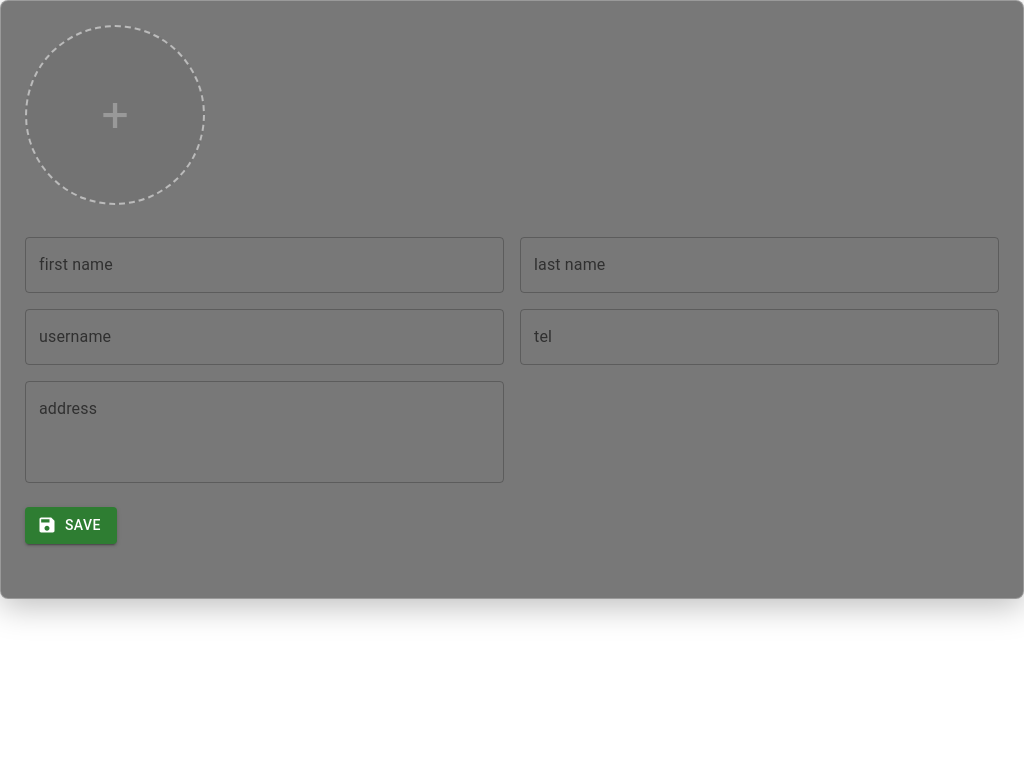
Test: profile page › shows validation errors when saving empty names
Check: the field labelled "first name" is shown, box [25, 237, 504, 293]
Click the button "save" at (71, 525), box [25, 507, 117, 544]
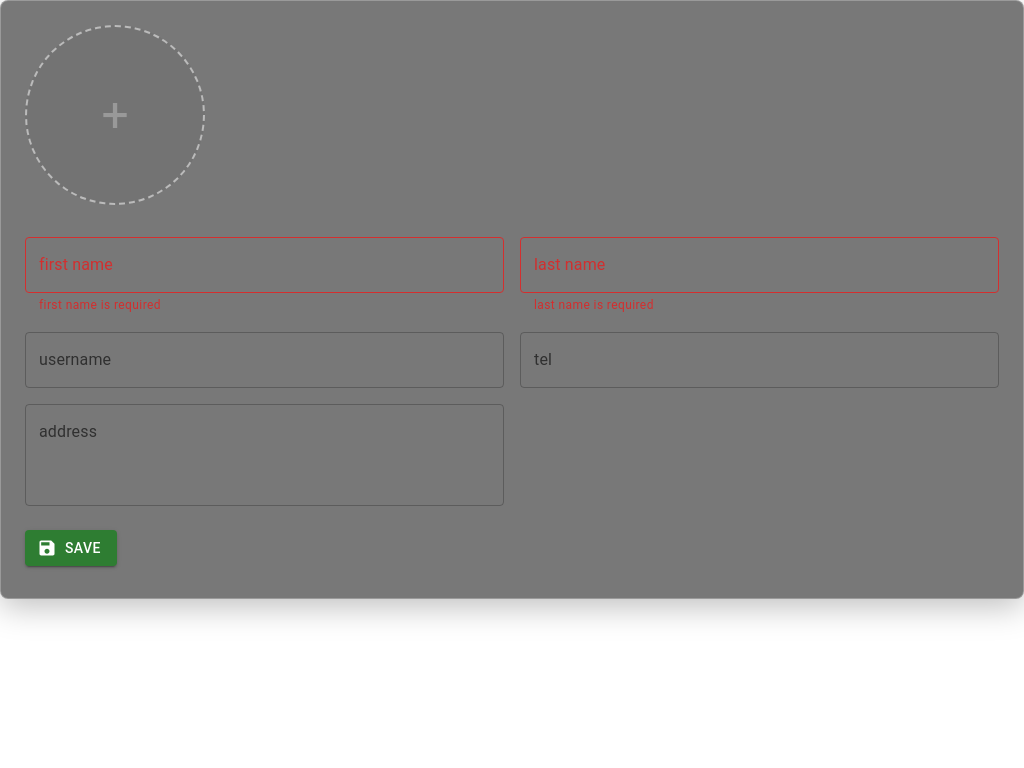
Check: the text "first name is required" is shown, box [39, 298, 161, 312]
Check: the text "last name is required" is shown, box [534, 298, 654, 312]
